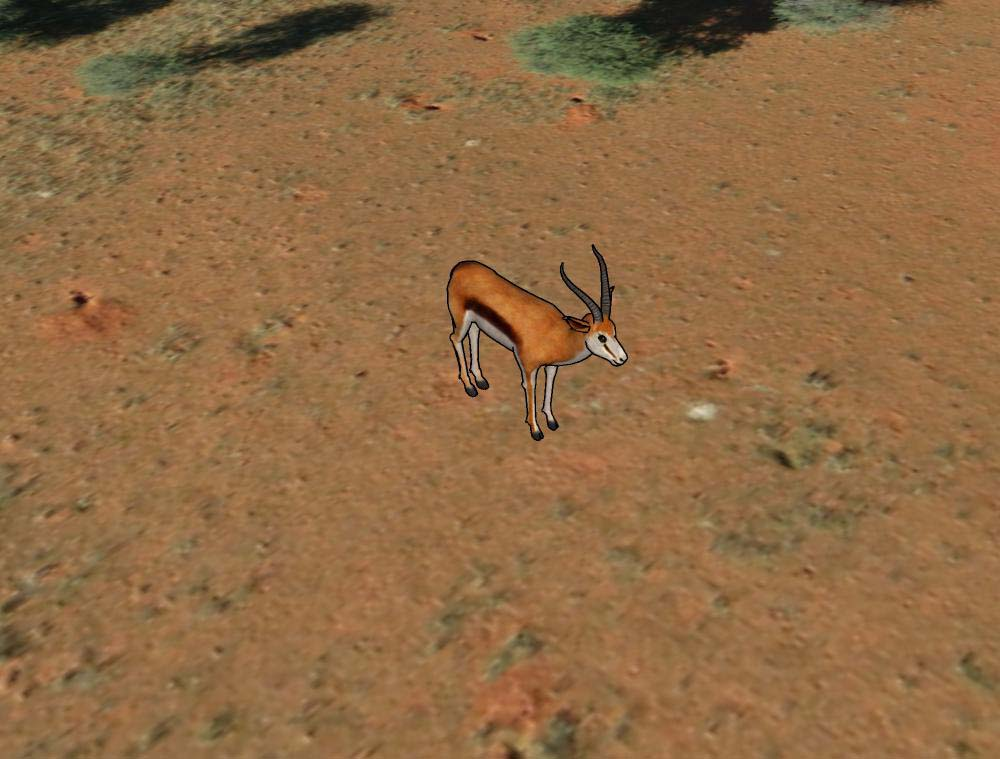springbok: (442, 240, 630, 443)
